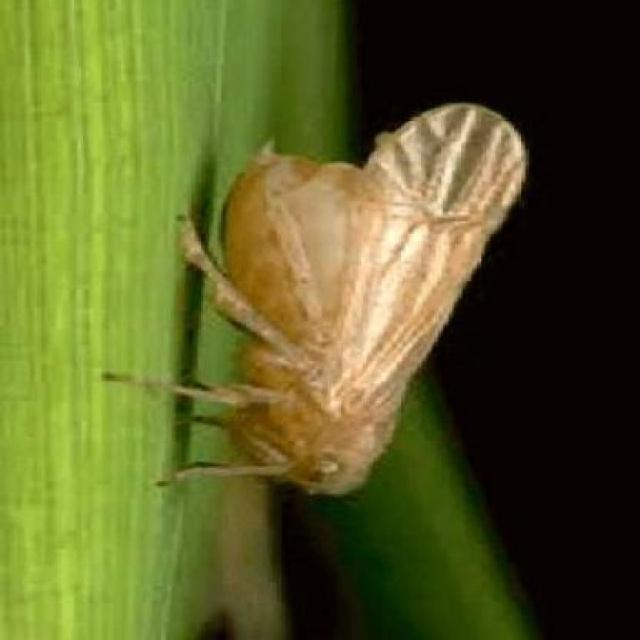brown-planthopper: (195, 79, 533, 501)
